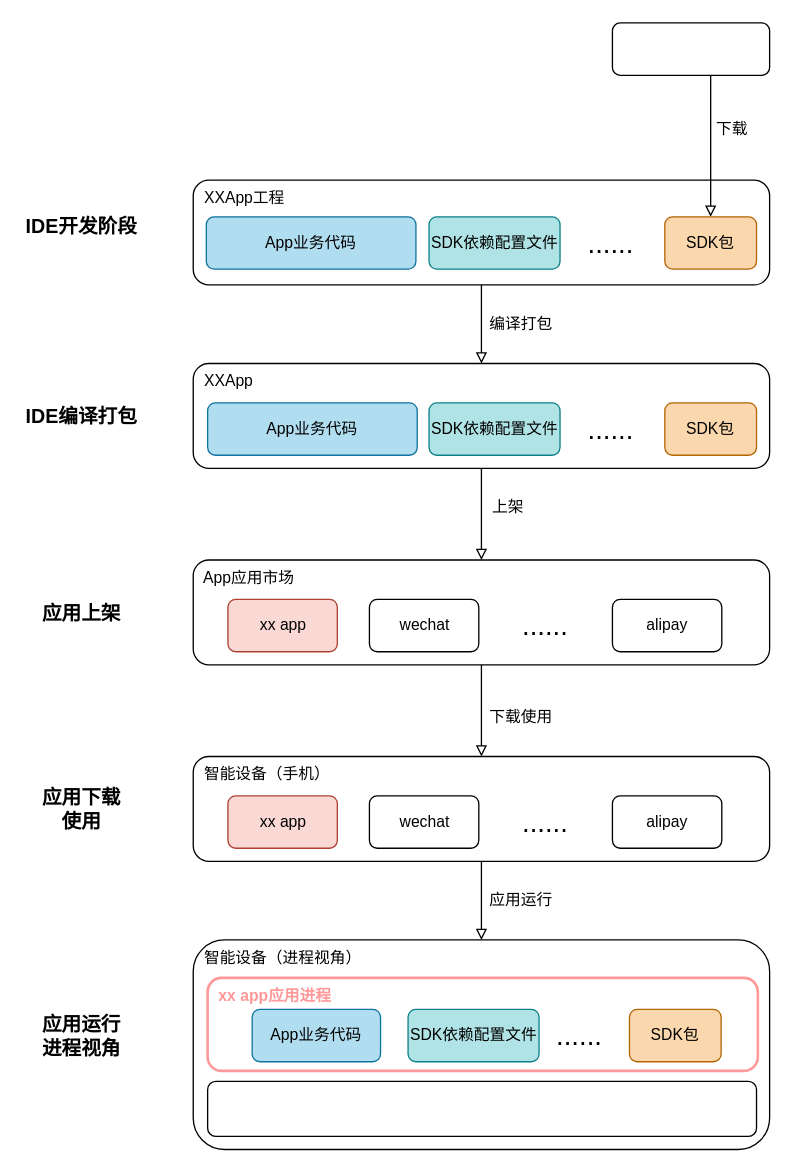
Some shapes in this 793 by 1172 pixel diagram are drawn without their labels. Each missing label, with the centre of its shape:
"wechat应用进程" goes at pixel 481 1108.
"XX SDK 官网" goes at pixel 690 48.
